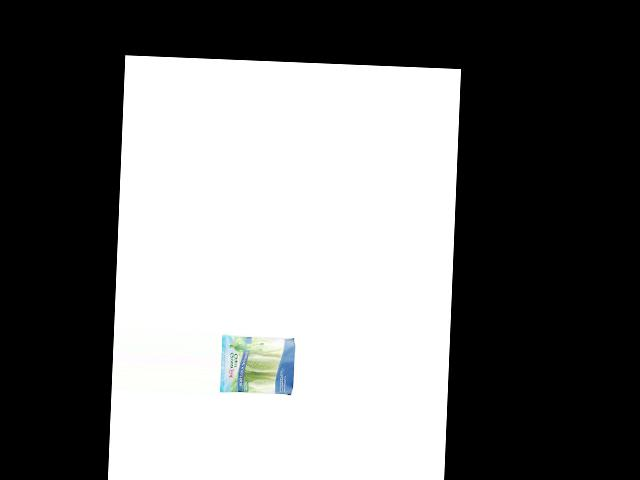lettuce: (223, 333, 298, 396)
